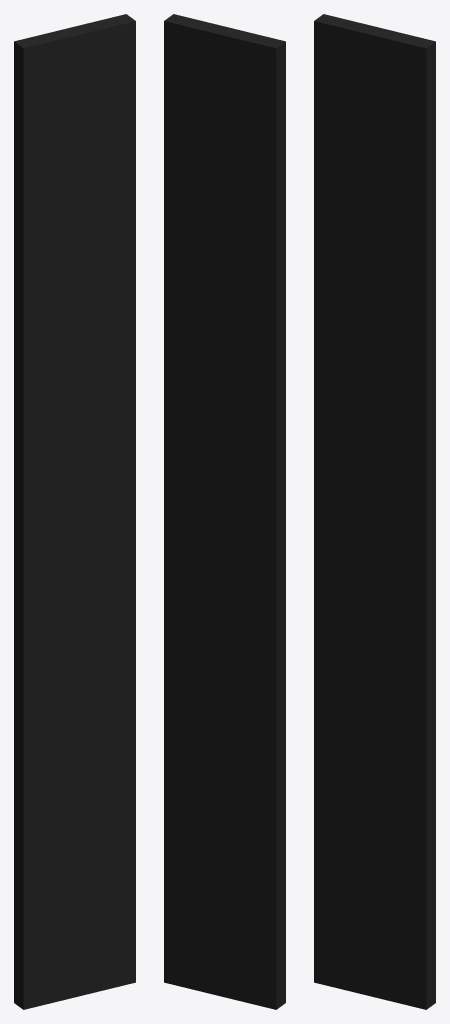
File: Bar_3.fbx
3 renders of one model, left to right at view 1: azimuth 30°, elevation 25°; view 2: azimuth 150°, elevation 25°; view 3: azimuth 330°, elevation 25°, orthographic.
Parts seen in each view (by area): view 1: pCube4; view 2: pCube4; view 3: pCube4.
Boxes of the visible parts, x1,y1,x2,y2 form: pCube4: (14, 14, 135, 1009); pCube4: (164, 14, 285, 1009); pCube4: (314, 14, 435, 1009).
Bounding box in the file's own units: 69.88 × 572 × 10.26.
Materials: 1 (1 with a texture image).
